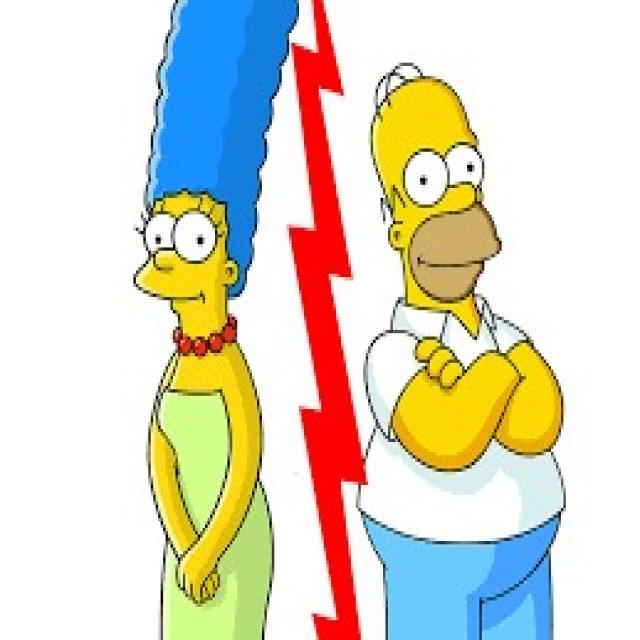Homer Simpson: (364, 53, 506, 323)
Marge Simpson: (127, 0, 303, 366)
